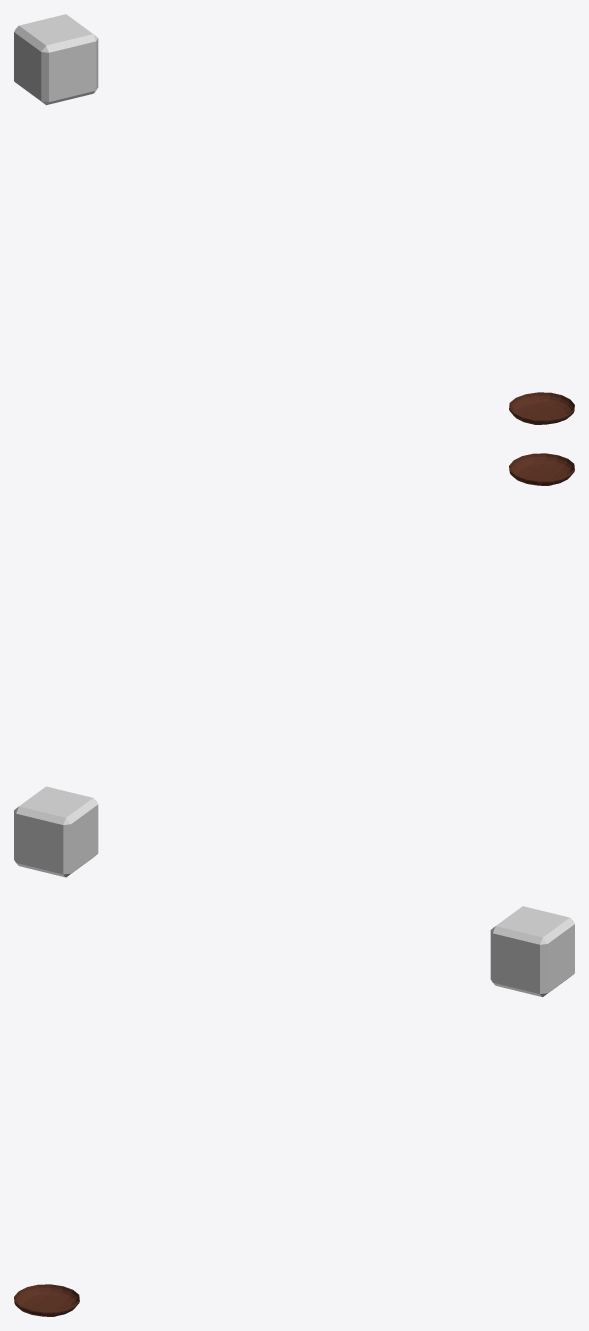
The model's file is bowl.fbx.
3 renders of one model, top to bottom at view 1: azimuth 30°, elevation 25°; view 2: azimuth 150°, elevation 25°; view 3: azimuth 330°, elevation 25°, orthographic.
Parts seen in each view (by area): view 1: Cube, Plane; view 2: Cube, Plane; view 3: Cube, Plane.
Boxes of the visible parts, left/top/right/bottom form: Cube: left=14, top=14, right=98, bottom=105; Plane: left=509, top=392, right=574, bottom=424; Cube: left=14, top=786, right=98, bottom=877; Plane: left=509, top=453, right=574, bottom=485; Cube: left=490, top=906, right=574, bottom=997; Plane: left=14, top=1284, right=79, bottom=1316.
Size of the model in its own units: 200 by 200 by 3148.
